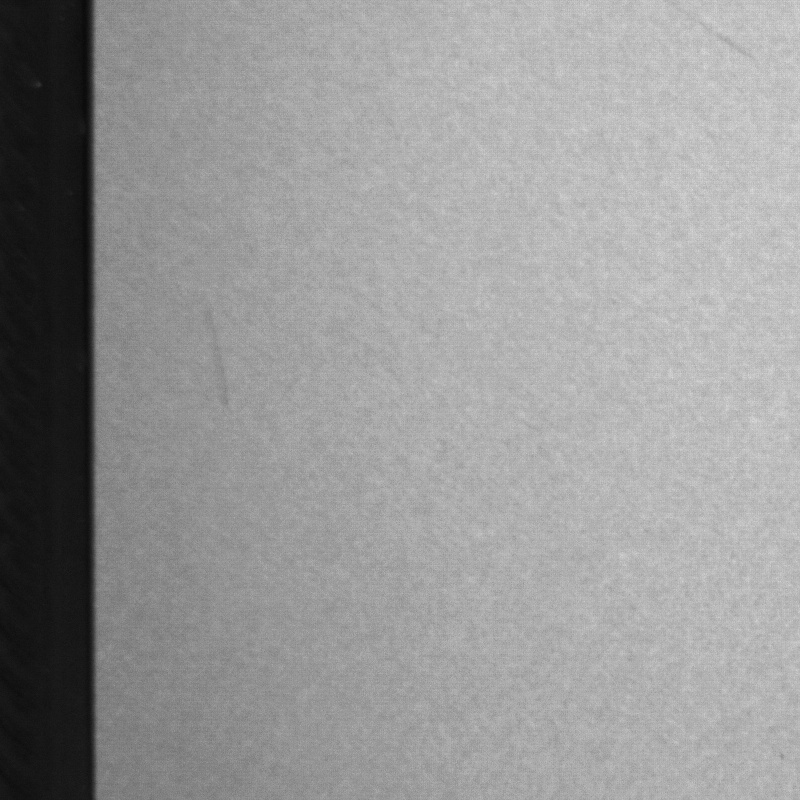defect: (676, 2, 765, 66), (206, 300, 234, 413)
